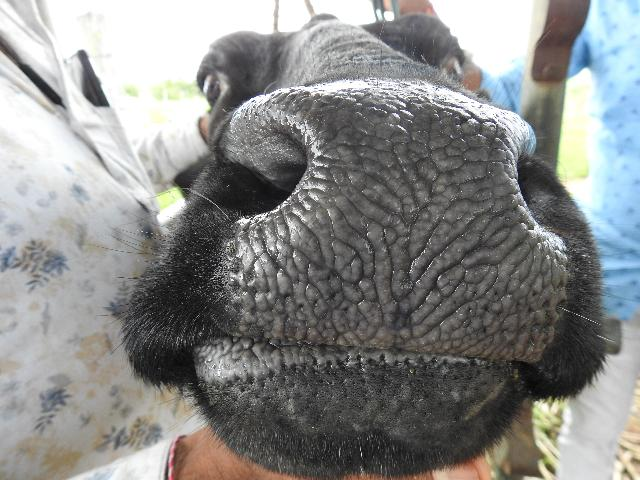Muzzle: (248, 102, 536, 350)
